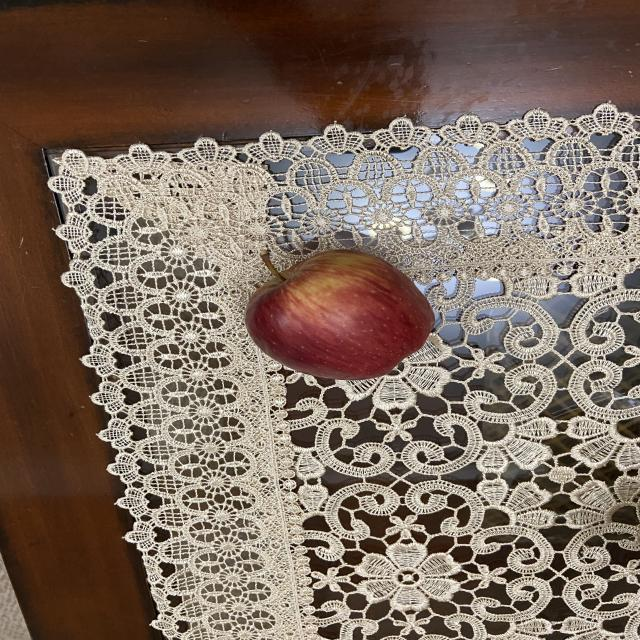apple: (238, 245, 438, 383)
